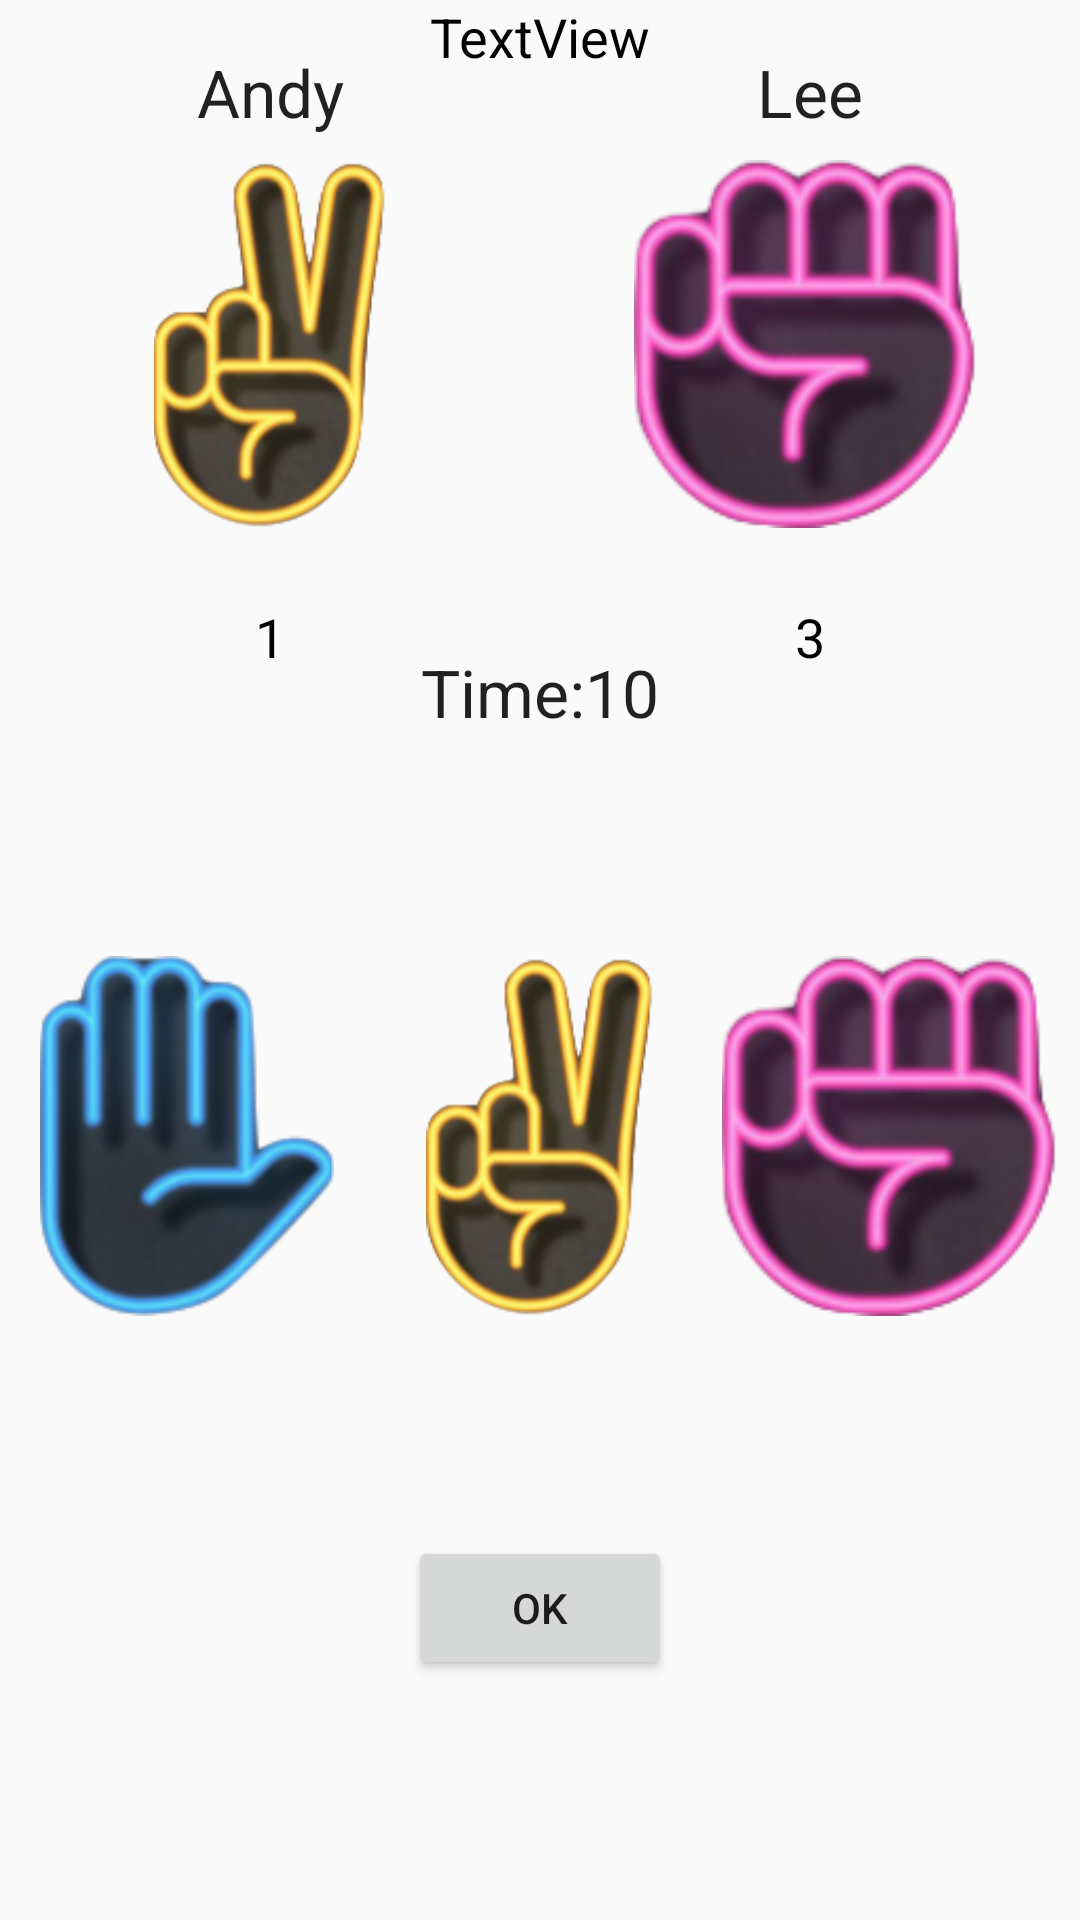

Where to tap for icons on this 1080 x 1920 app screen, as (x,y):
play papper: (187,1136)
play scissors: (539,1136)
play stone: (888,1136)
